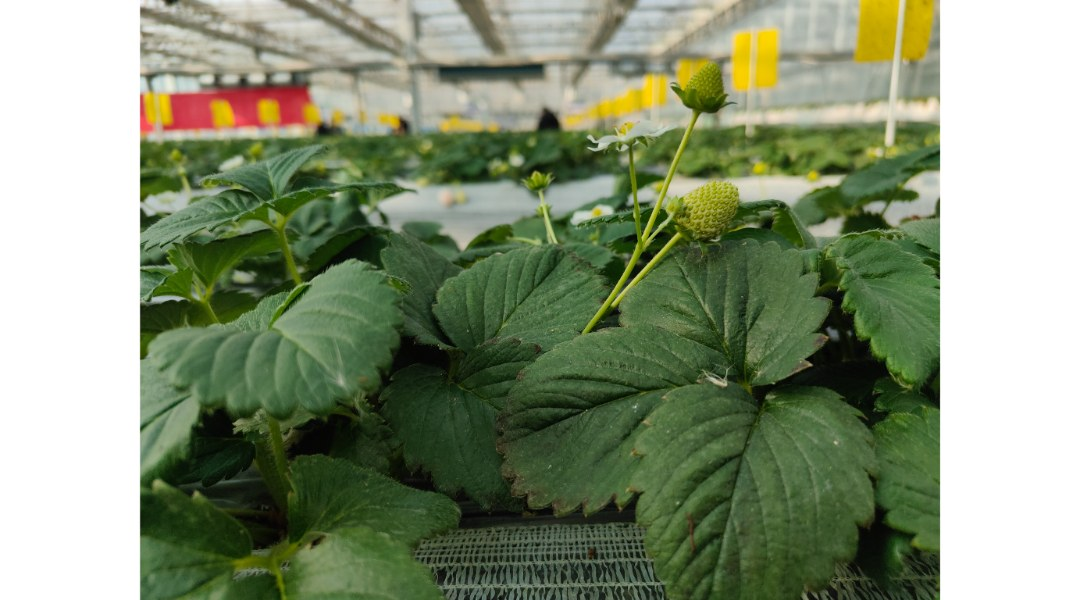berry: (668, 174, 735, 253), (669, 53, 726, 130)
flower: (576, 106, 669, 154)
strain: (581, 251, 632, 339), (652, 117, 696, 215), (609, 246, 674, 300), (530, 190, 573, 251), (626, 159, 642, 230)
